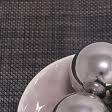ironball: (69, 37, 111, 104), (43, 89, 111, 111)
